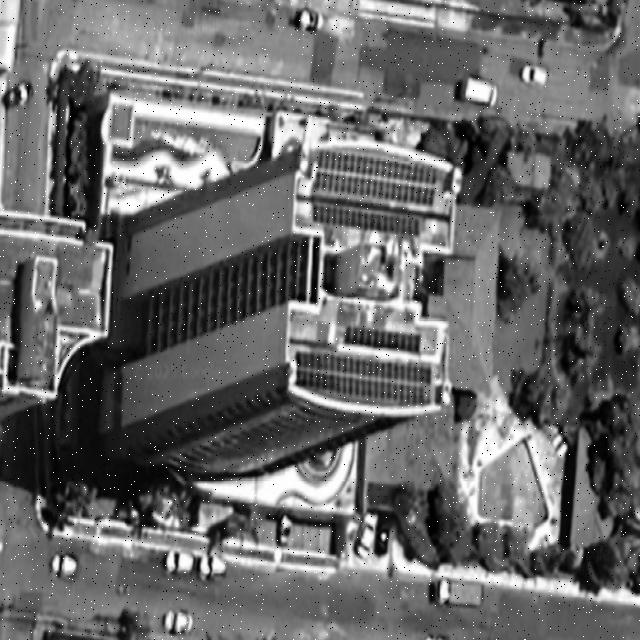painel: (312, 146, 437, 210), (300, 355, 432, 404), (314, 203, 419, 238), (346, 323, 421, 355)
